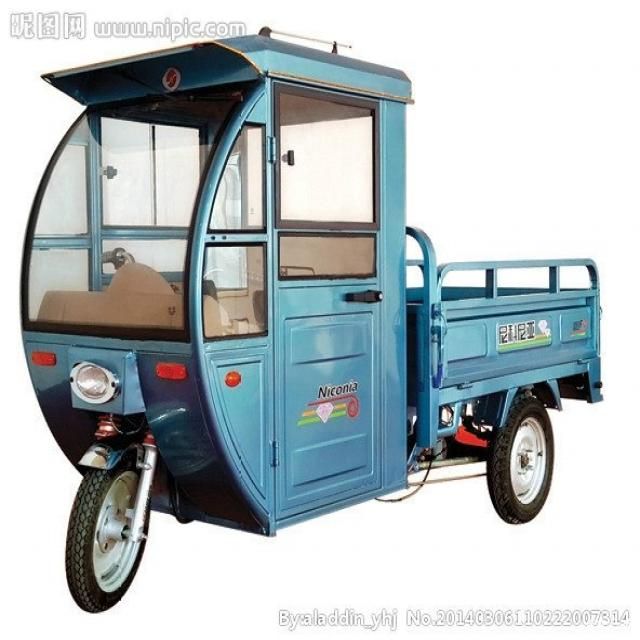tricycle: (20, 23, 601, 616)
